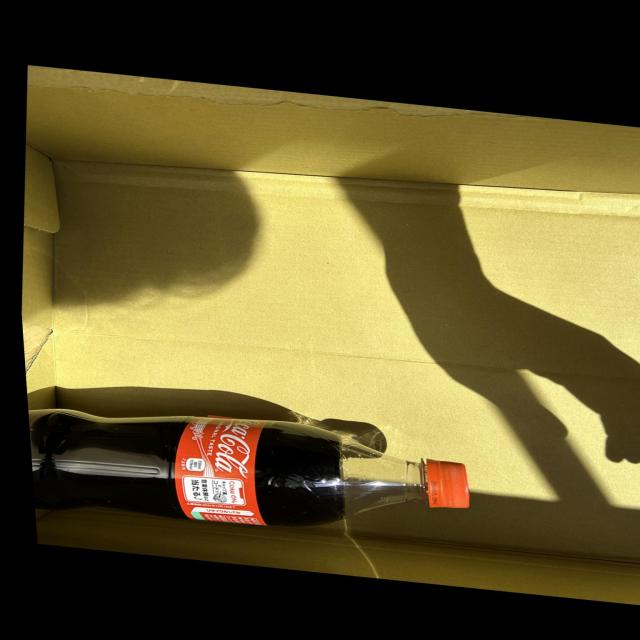high: (0, 409, 469, 527)
